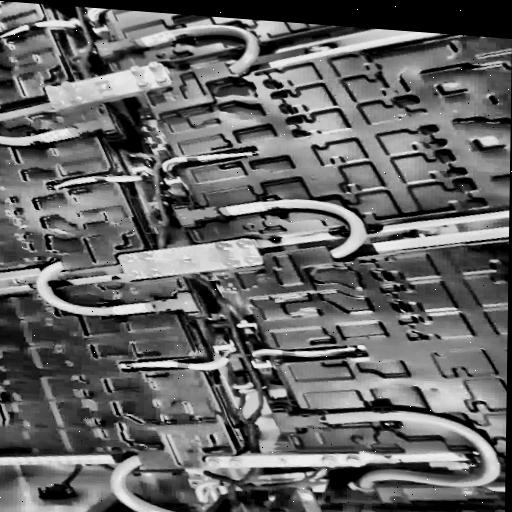high_volt_cable: (278, 403, 506, 497), (181, 191, 382, 271), (92, 19, 280, 87), (29, 257, 197, 321), (0, 78, 130, 153)
low_volt_cable: (54, 4, 273, 446)
nut: (344, 454, 366, 470), (139, 264, 161, 278), (317, 455, 339, 469), (203, 456, 225, 470), (123, 266, 143, 280), (211, 237, 230, 251), (220, 255, 241, 267), (115, 252, 135, 264), (146, 58, 164, 71), (243, 253, 264, 264), (228, 457, 246, 469), (60, 79, 76, 90), (236, 236, 252, 247), (67, 92, 81, 103), (153, 74, 169, 83), (43, 83, 56, 94), (131, 63, 143, 74), (134, 78, 148, 87), (136, 251, 150, 260), (50, 96, 62, 105)
